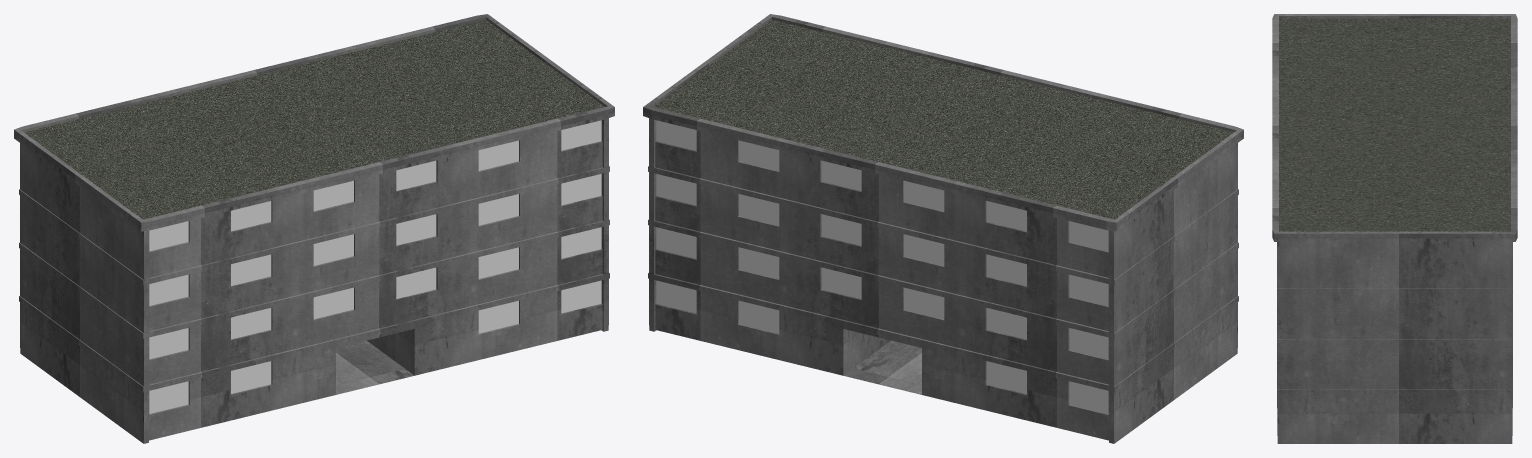
The model's file is APARTMENT_09.fbx.
The picture shows the model from 3 angles, left to right: view 1: azimuth 30°, elevation 25°; view 2: azimuth 150°, elevation 25°; view 3: azimuth 270°, elevation 25°; orthographic projection. The views are drawn at different scales.
Parts seen in each view (by area): view 1: APARTMENT_09; view 2: APARTMENT_09; view 3: APARTMENT_09.
Part boxes in pixels (x1,y1,x2,y2): APARTMENT_09: (14,14,614,443); APARTMENT_09: (643,14,1243,443); APARTMENT_09: (1272,14,1517,443).
Bounding box in the file's own units: 2971 × 1341 × 1404.
